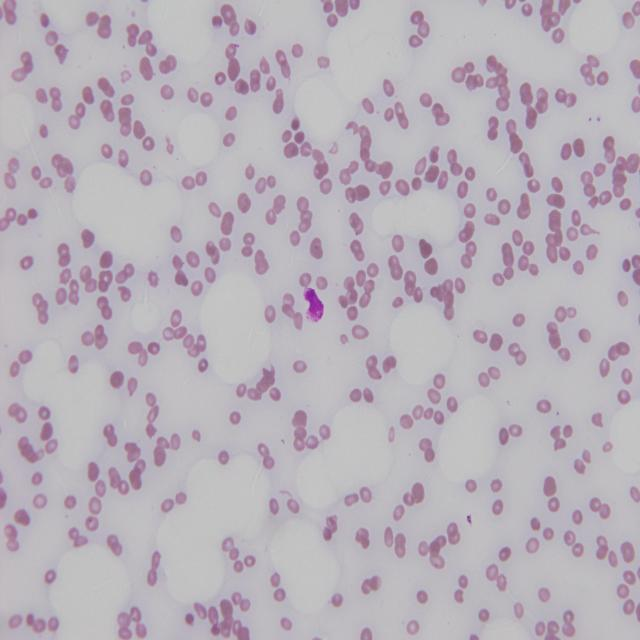cell: (304, 287, 324, 322)
